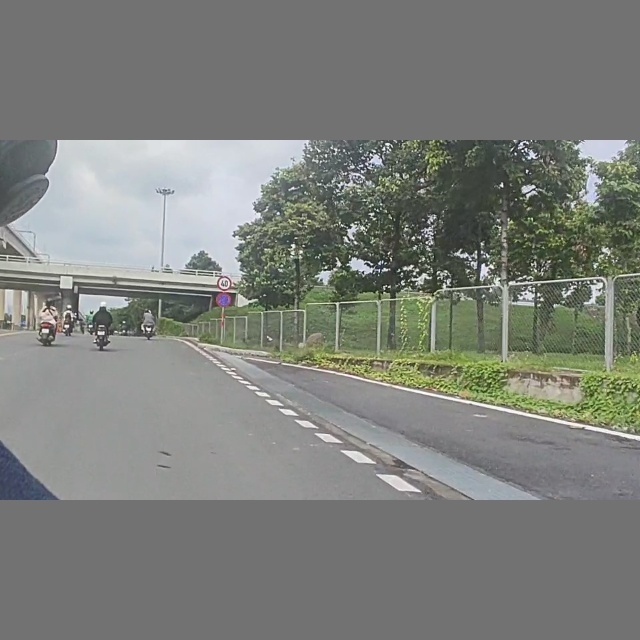P.127*40: (216, 275, 233, 291)
P.130: (215, 292, 233, 308)
